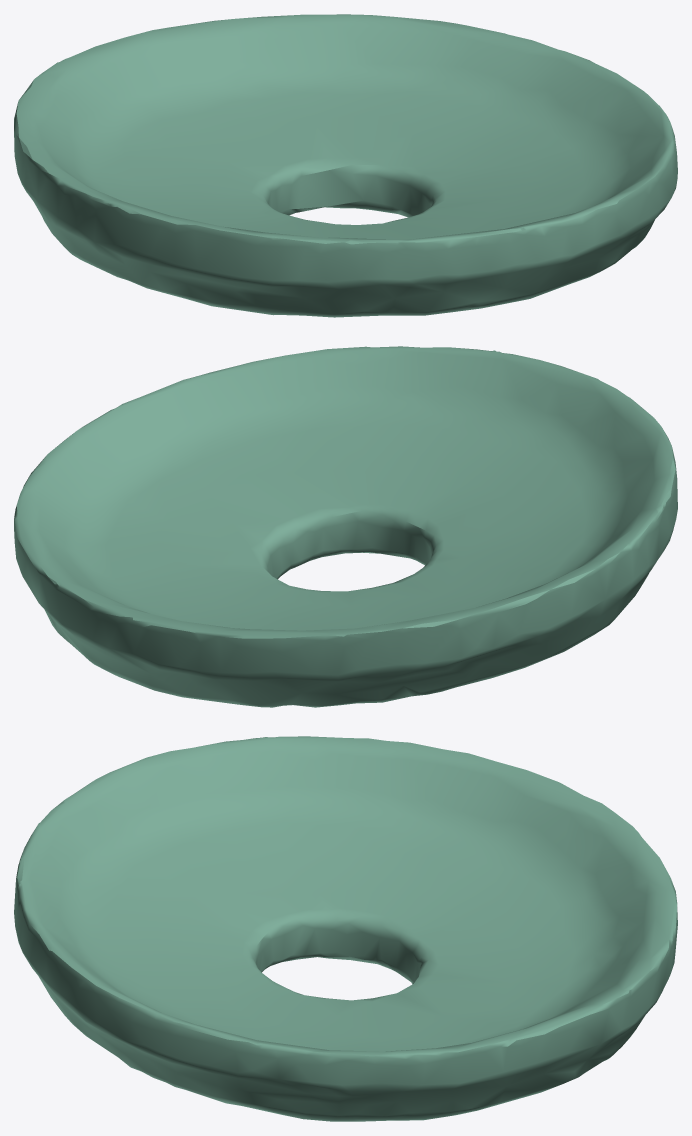
3 renders of one model, top to bottom at view 1: azimuth 30°, elevation 25°; view 2: azimuth 150°, elevation 25°; view 3: azimuth 270°, elevation 25°, orthographic.
Parts seen in each view (by area): view 1: 右侧虹膜; view 2: 右侧虹膜; view 3: 右侧虹膜.
Boxes of the visible parts, <box> form: 右侧虹膜: <box>14,14,677,317</box>; 右侧虹膜: <box>14,346,677,707</box>; 右侧虹膜: <box>14,736,677,1121</box>.
Size of the model in its own units: 0.0189 by 0.00475 by 0.019.
